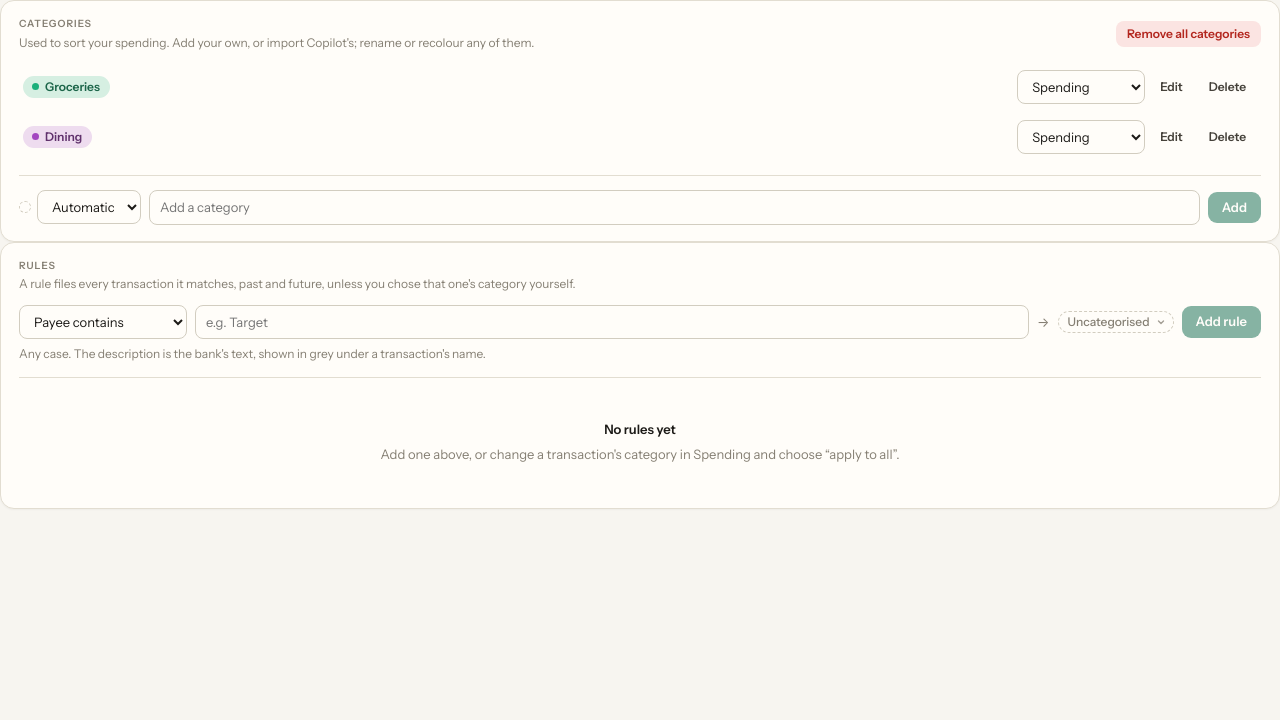
CategoriesCard › offers all twelve colours when editing, starting from the category's own
Click the button "Edit" in the row of "Groceries": click(1172, 87) [1149,74,1194,100]
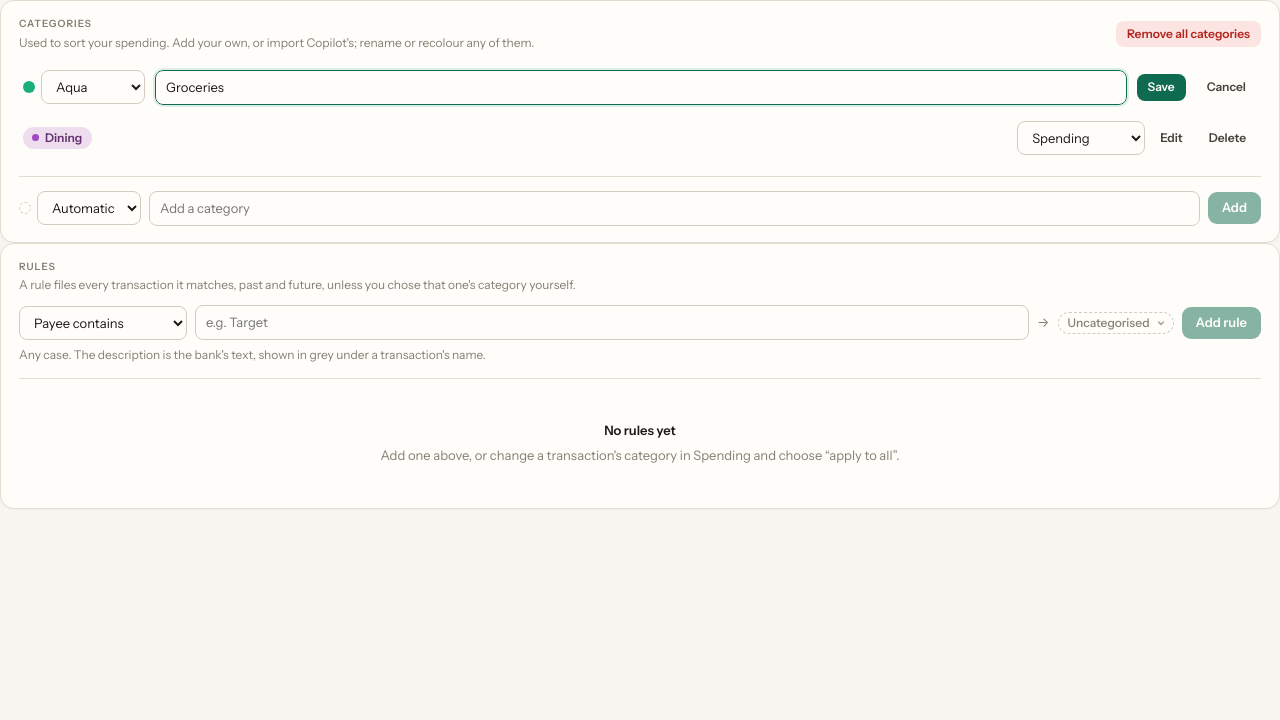
Expected: the dropdown named "Colour" shows "Aqua", [41,70,145,104]
